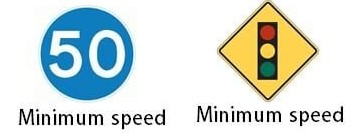Traffic signal: (216, 1, 319, 99), (40, 6, 135, 102)
